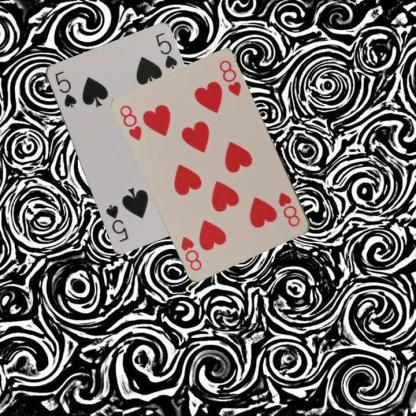5s: (52, 68, 77, 108)
8h: (117, 102, 144, 142), (276, 190, 302, 228)
